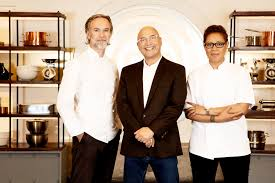Bad: (56, 14, 187, 183), (117, 25, 255, 183)
